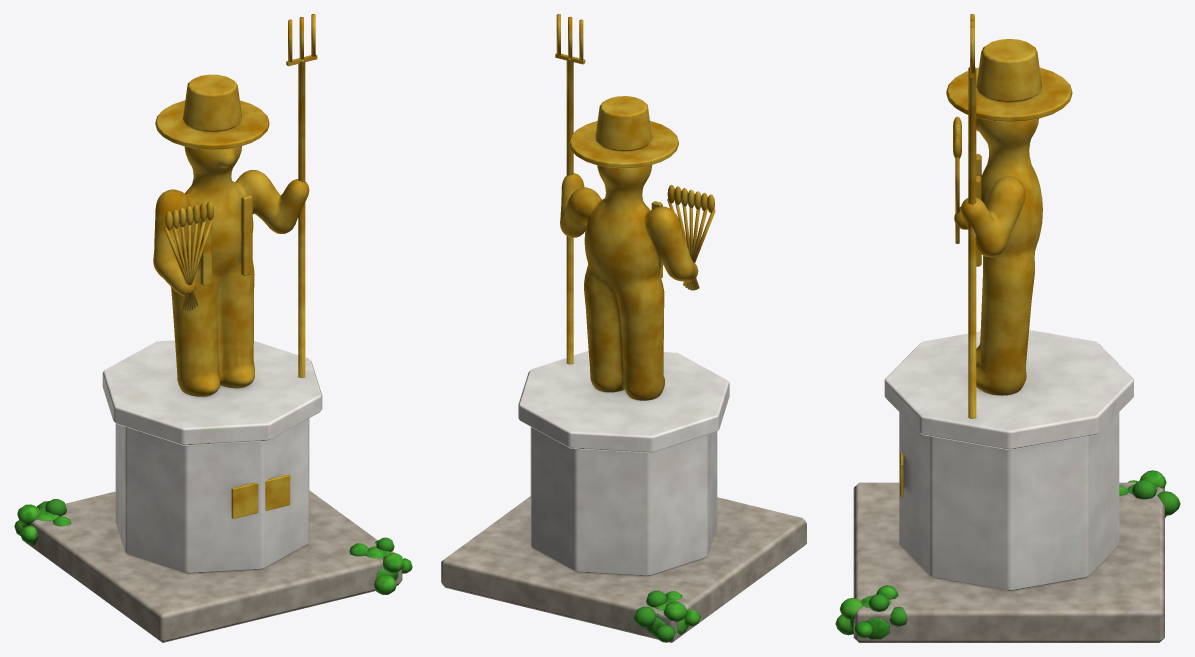
File: golden_farmer.glb
3 views of the same model, side by side, from view 1: azimuth 30°, elevation 25°; view 2: azimuth 150°, elevation 25°; view 3: azimuth 270°, elevation 25° (orthographic). The views are drawn at different scales.
Parts seen in each view (by area): view 1: golden_farmer; view 2: golden_farmer; view 3: golden_farmer.
Part boxes in pixels (x1,y1,x2,y2): golden_farmer: [14, 14, 412, 642]; golden_farmer: [441, 14, 806, 642]; golden_farmer: [835, 14, 1180, 642].
Size of the model in its own units: 0.9236 by 1.79 by 0.9319.
1 material, 1 textured.
